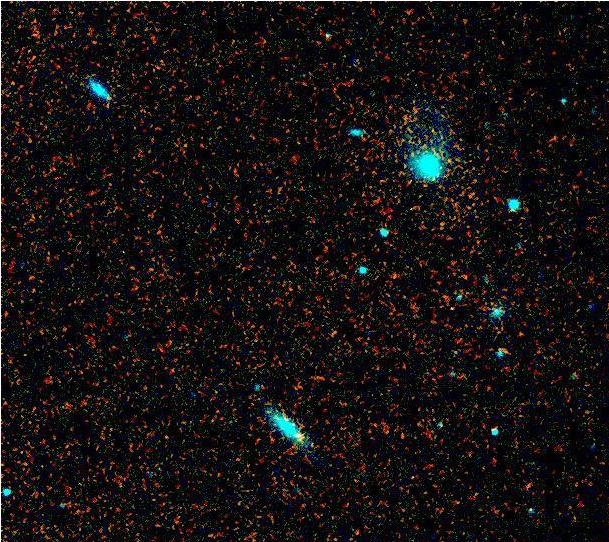star: (290, 425, 320, 455)
